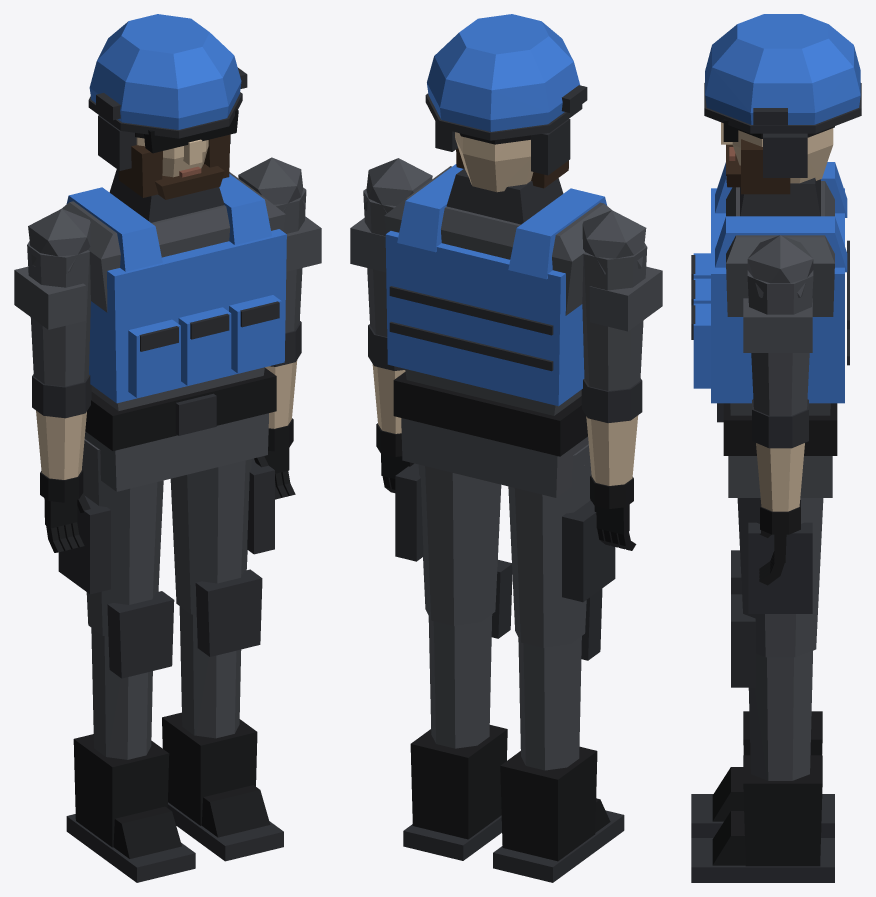
Rendered from soldat.glb.
3 views of the same model, side by side, from view 1: azimuth 30°, elevation 25°; view 2: azimuth 150°, elevation 25°; view 3: azimuth 270°, elevation 25° (orthographic). The views are drawn at different scales.
Parts seen in each view (by area): view 1: soldat_rumpf_team, soldat_rumpf_stoff, soldat_kopf_team, soldat_arm_r_stoff, soldat_unterbein_r_schwarz.001, soldat_bein_l_stoff, soldat_unterbein_l_schwarz.001, soldat_bein_r_stoff, soldat_unterbein_r_dunkel.001, soldat_unterbein_l_dunkel.001, soldat_rumpf_schwarz, soldat_rumpf_dunkel (+15 smaller); view 2: soldat_rumpf_team, soldat_rumpf_stoff, soldat_kopf_team, soldat_arm_r_stoff, soldat_bein_l_stoff, soldat_bein_r_stoff, soldat_unterbein_r_schwarz.001, soldat_unterbein_l_schwarz.001, soldat_rumpf_schwarz, soldat_unterbein_r_stoff.001, soldat_unterbein_l_stoff.001, soldat_rumpf_dunkel (+13 smaller); view 3: soldat_rumpf_team, soldat_kopf_team, soldat_arm_l_stoff, soldat_unterbein_l_schwarz.001, soldat_rumpf_stoff, soldat_unterbein_l_stoff.001, soldat_unterbein_l_dunkel.001, soldat_bein_l_stoff, soldat_bein_l_dunkel, soldat_kopf_dunkel, soldat_rumpf_dunkel, soldat_unterarm_l_haut (+7 smaller).
Part boxes in pixels (x1,y1,x2,y2): soldat_rumpf_team: [66, 174, 286, 403]; soldat_rumpf_stoff: [62, 172, 285, 491]; soldat_kopf_team: [89, 14, 241, 129]; soldat_arm_r_stoff: [14, 208, 90, 386]; soldat_unterbein_r_schwarz.001: [73, 734, 181, 858]; soldat_bein_l_stoff: [170, 459, 251, 614]; soldat_unterbein_l_schwarz.001: [162, 712, 270, 837]; soldat_bein_r_stoff: [82, 439, 163, 636]; soldat_unterbein_r_dunkel.001: [66, 591, 195, 882]; soldat_unterbein_l_dunkel.001: [167, 569, 283, 861]; soldat_rumpf_schwarz: [85, 368, 276, 450]; soldat_rumpf_dunkel: [109, 169, 279, 435]; soldat_rumpf_team: [385, 164, 607, 406]; soldat_rumpf_stoff: [384, 166, 611, 497]; soldat_kopf_team: [427, 14, 579, 131]; soldat_arm_r_stoff: [582, 210, 662, 390]; soldat_bein_l_stoff: [418, 464, 501, 625]; soldat_bein_r_stoff: [508, 444, 591, 647]; soldat_unterbein_r_schwarz.001: [500, 746, 610, 861]; soldat_unterbein_l_schwarz.001: [410, 725, 507, 839]; soldat_rumpf_schwarz: [393, 372, 587, 456]; soldat_unterbein_r_stoff.001: [518, 636, 581, 770]; soldat_unterbein_l_stoff.001: [428, 614, 492, 748]; soldat_rumpf_dunkel: [389, 168, 563, 371]; soldat_rumpf_team: [693, 162, 847, 403]; soldat_kopf_team: [705, 14, 860, 124]; soldat_arm_l_stoff: [743, 235, 813, 415]; soldat_unterbein_l_schwarz.001: [712, 755, 822, 866]; soldat_rumpf_stoff: [726, 181, 834, 497]; soldat_unterbein_l_stoff.001: [748, 651, 812, 780]; soldat_unterbein_l_dunkel.001: [691, 594, 834, 882]; soldat_bein_l_stoff: [737, 498, 823, 657]; soldat_bein_l_dunkel: [748, 522, 812, 613]; soldat_kopf_dunkel: [704, 83, 861, 177]; soldat_rumpf_dunkel: [691, 178, 849, 422]; soldat_unterarm_l_haut: [756, 443, 804, 511].
Size of the model in its own units: 0.65 by 1.81 by 0.3439.
